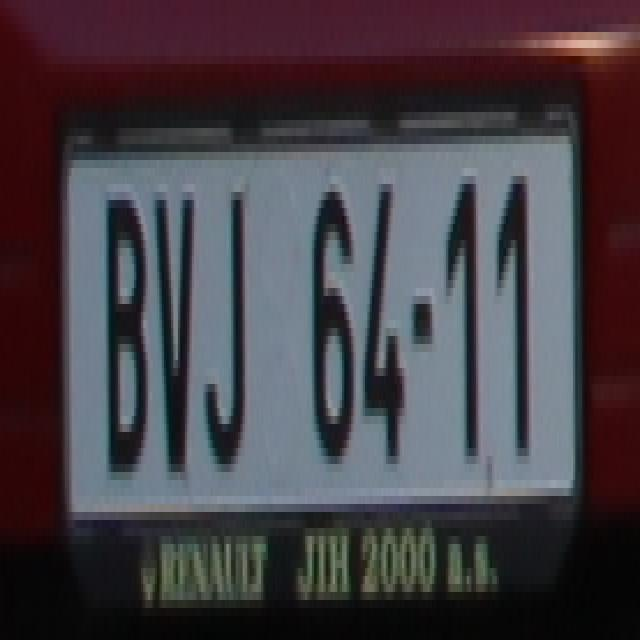1: (444, 168, 485, 464), (497, 168, 531, 464)
4: (361, 168, 406, 472)
6: (312, 184, 358, 464)
B: (106, 192, 148, 480)
V: (150, 184, 197, 488)
